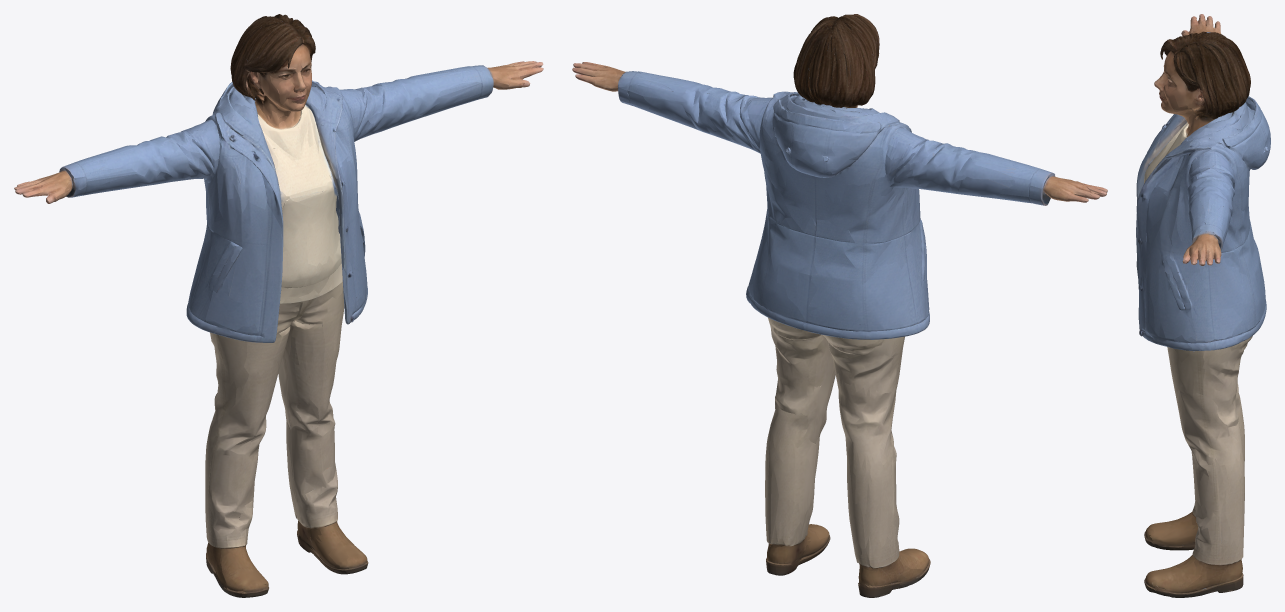
The model's file is character_n09_optimized.glb.
3 renders of one model, left to right at view 1: azimuth 30°, elevation 25°; view 2: azimuth 150°, elevation 25°; view 3: azimuth 270°, elevation 25°, orthographic. The views are drawn at different scales.
Parts seen in each view (by area): view 1: output_unwrapped; view 2: output_unwrapped; view 3: output_unwrapped.
Boxes of the visible parts, x1,y1,x2,y2 form: output_unwrapped: [14, 14, 543, 597]; output_unwrapped: [572, 14, 1107, 597]; output_unwrapped: [1136, 14, 1270, 597].
Bounding box in the file's own units: 1.9 × 1.89 × 0.4333.
Materials: 1 (1 with a texture image).
